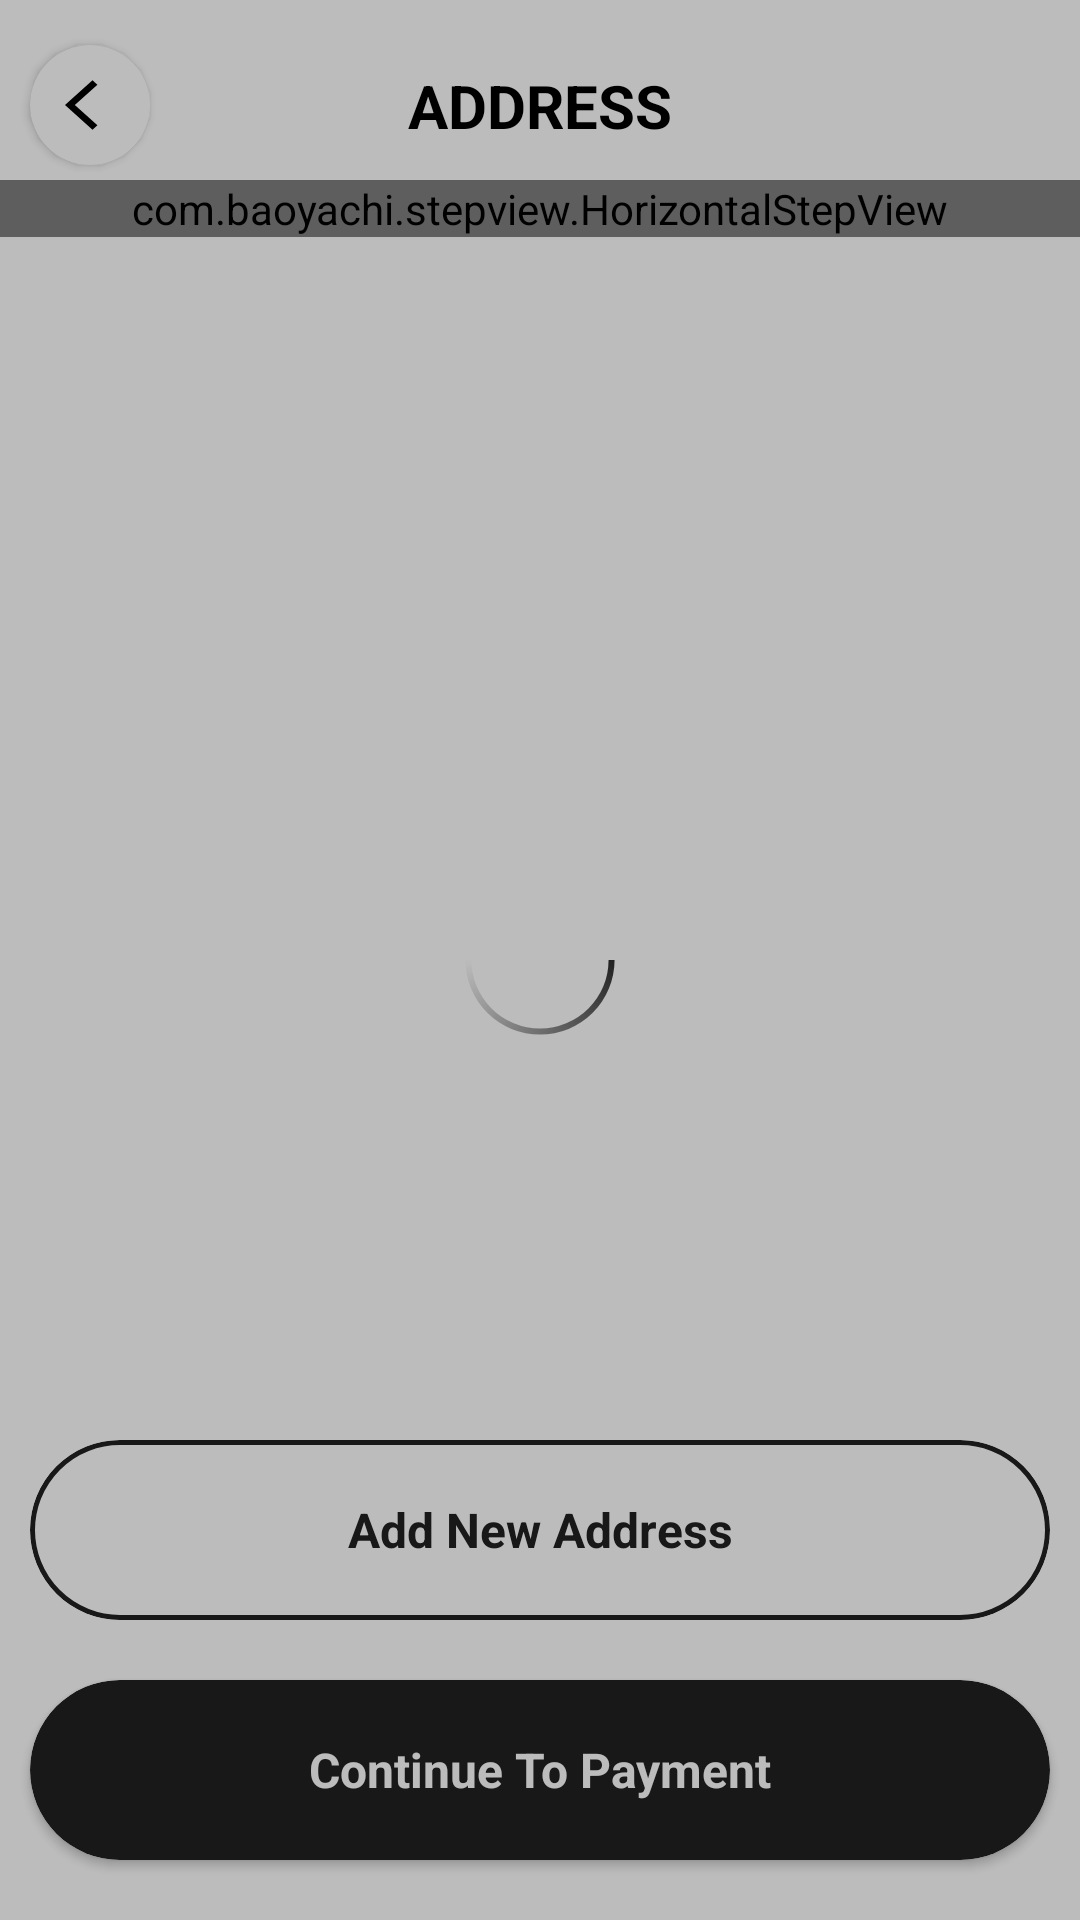

Icon click points for this 1080x1920 phone screenshot, format point (x, y):
back: point (81, 105)
